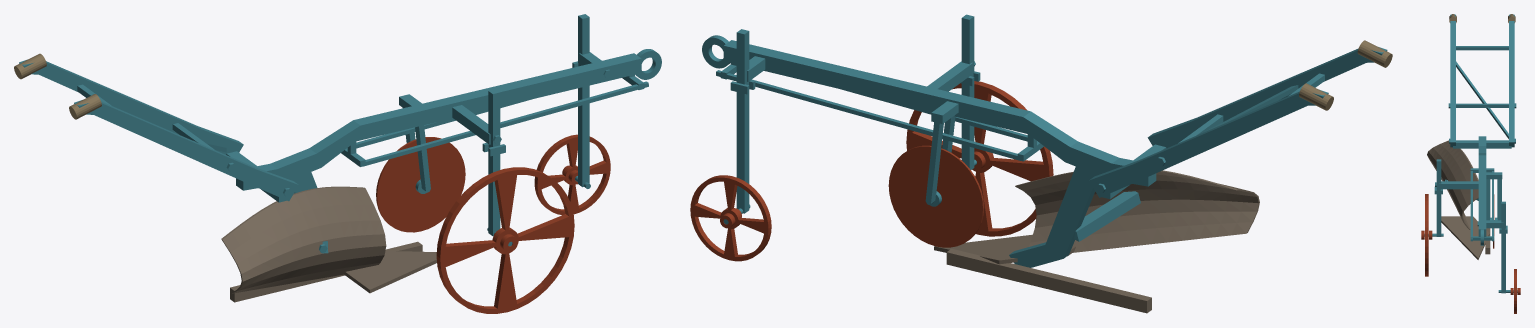
Rendered from NEW455_walking_plough_LOD1.glb.
3 renders of one model, left to right at view 1: azimuth 30°, elevation 25°; view 2: azimuth 150°, elevation 25°; view 3: azimuth 270°, elevation 25°, orthographic. The views are drawn at different scales.
Parts seen in each view (by area): view 1: Single curved mouldboard 720mm, Main curved draw beam, Large four spoke wheel, Circular coulter blade, Near curved handle, Far curved handle, Small four spoke wheel, Pointed share 494mm, Lower draught rod near, Small vertical wheel standard, Large vertical wheel standard, Landside sole (+6 smaller); view 2: Single curved mouldboard 720mm, Main curved draw beam, Circular coulter blade, Far curved handle, Large four spoke wheel, Landside sole, Near curved handle, Swept plough standard, Small four spoke wheel, Small vertical wheel standard, Lower draught rod far, Pointed share 494mm (+9 smaller); view 3: Single curved mouldboard 720mm, Pointed share 494mm, Main curved draw beam, Far curved handle, Near curved handle, Small vertical wheel standard, Large vertical wheel standard, Large beam support outrigger, Diagonal handle brace, Large four spoke wheel, Handle cross brace 0, Handle cross brace 1 (+11 smaller).
Part boxes in pixels (box(x1,y1,x2,y2)): Single curved mouldboard 720mm: box(221, 186, 386, 293); Main curved draw beam: box(236, 53, 641, 190); Large four spoke wheel: box(436, 167, 574, 313); Circular coulter blade: box(376, 137, 465, 232); Near curved handle: box(74, 100, 298, 201); Far curved handle: box(19, 59, 243, 154); Small four spoke wheel: box(534, 134, 610, 215); Pointed share 494mm: box(344, 250, 436, 293); Lower draught rod near: box(363, 81, 648, 166); Small vertical wheel standard: box(578, 14, 589, 187); Large vertical wheel standard: box(488, 89, 500, 236); Landside sole: box(230, 241, 422, 302); Single curved mouldboard 720mm: box(1015, 170, 1259, 252); Main curved draw beam: box(723, 40, 1156, 186); Circular coulter blade: box(888, 145, 984, 247); Far curved handle: box(1089, 89, 1328, 197); Large four spoke wheel: box(906, 81, 1053, 236); Landside sole: box(946, 248, 1151, 313); Near curved handle: box(1147, 47, 1387, 148); Swept plough standard: box(1009, 166, 1097, 267); Small four spoke wheel: box(690, 175, 771, 261); Small vertical wheel standard: box(736, 29, 749, 213); Lower draught rod far: box(716, 70, 1020, 160); Pointed share 494mm: box(934, 234, 1075, 264); Single curved mouldboard 720mm: box(1427, 140, 1478, 229); Pointed share 494mm: box(1441, 216, 1489, 259); Main curved draw beam: box(1478, 136, 1486, 236); Far curved handle: box(1509, 14, 1514, 147); Near curved handle: box(1450, 14, 1455, 147); Small vertical wheel standard: box(1501, 201, 1505, 293); Large vertical wheel standard: box(1436, 159, 1441, 236); Large beam support outrigger: box(1439, 181, 1478, 189); Diagonal handle brace: box(1456, 61, 1508, 138); Large four spoke wheel: box(1425, 194, 1428, 276); Handle cross brace 0: box(1456, 103, 1508, 107); Handle cross brace 1: box(1456, 46, 1508, 50).
Size of the model in its own units: 2.52 by 1.14 by 0.6595.
